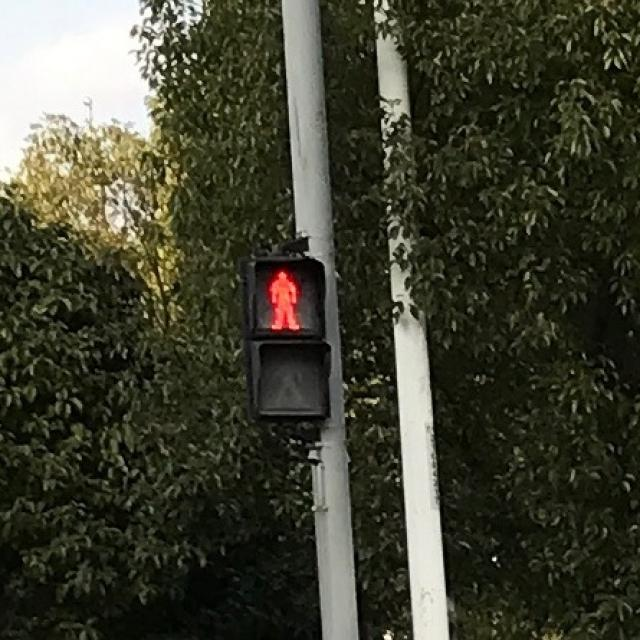red_light: (262, 266, 300, 332)
